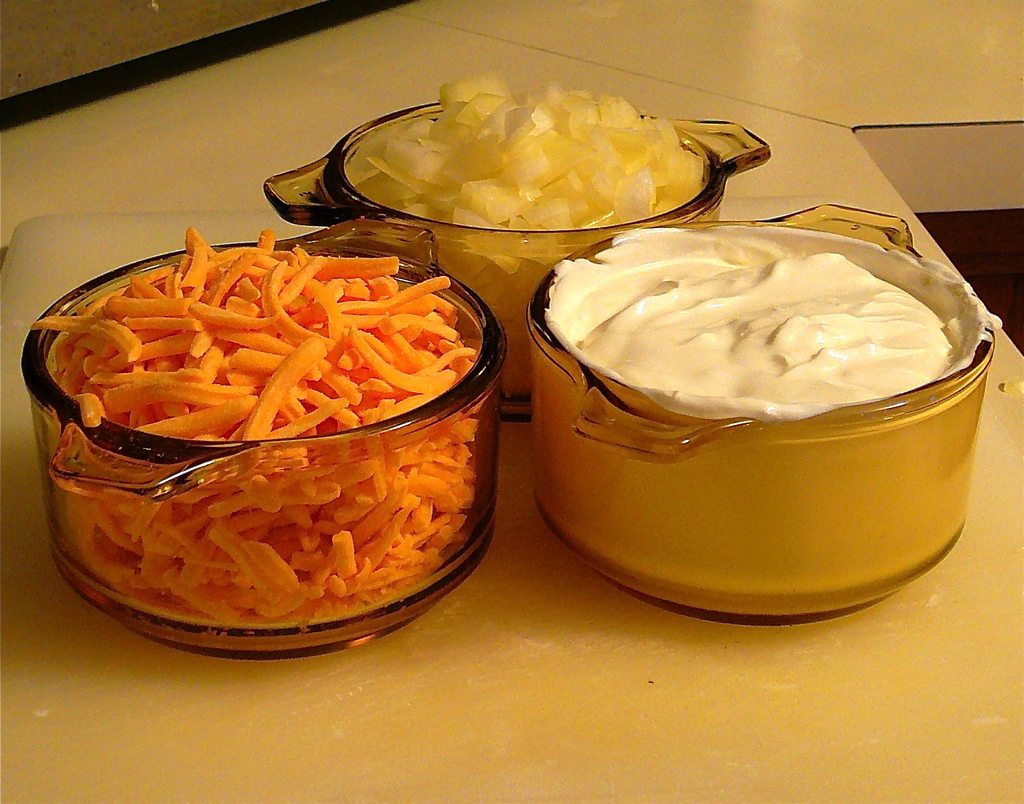French fries: (33, 233, 496, 637)
